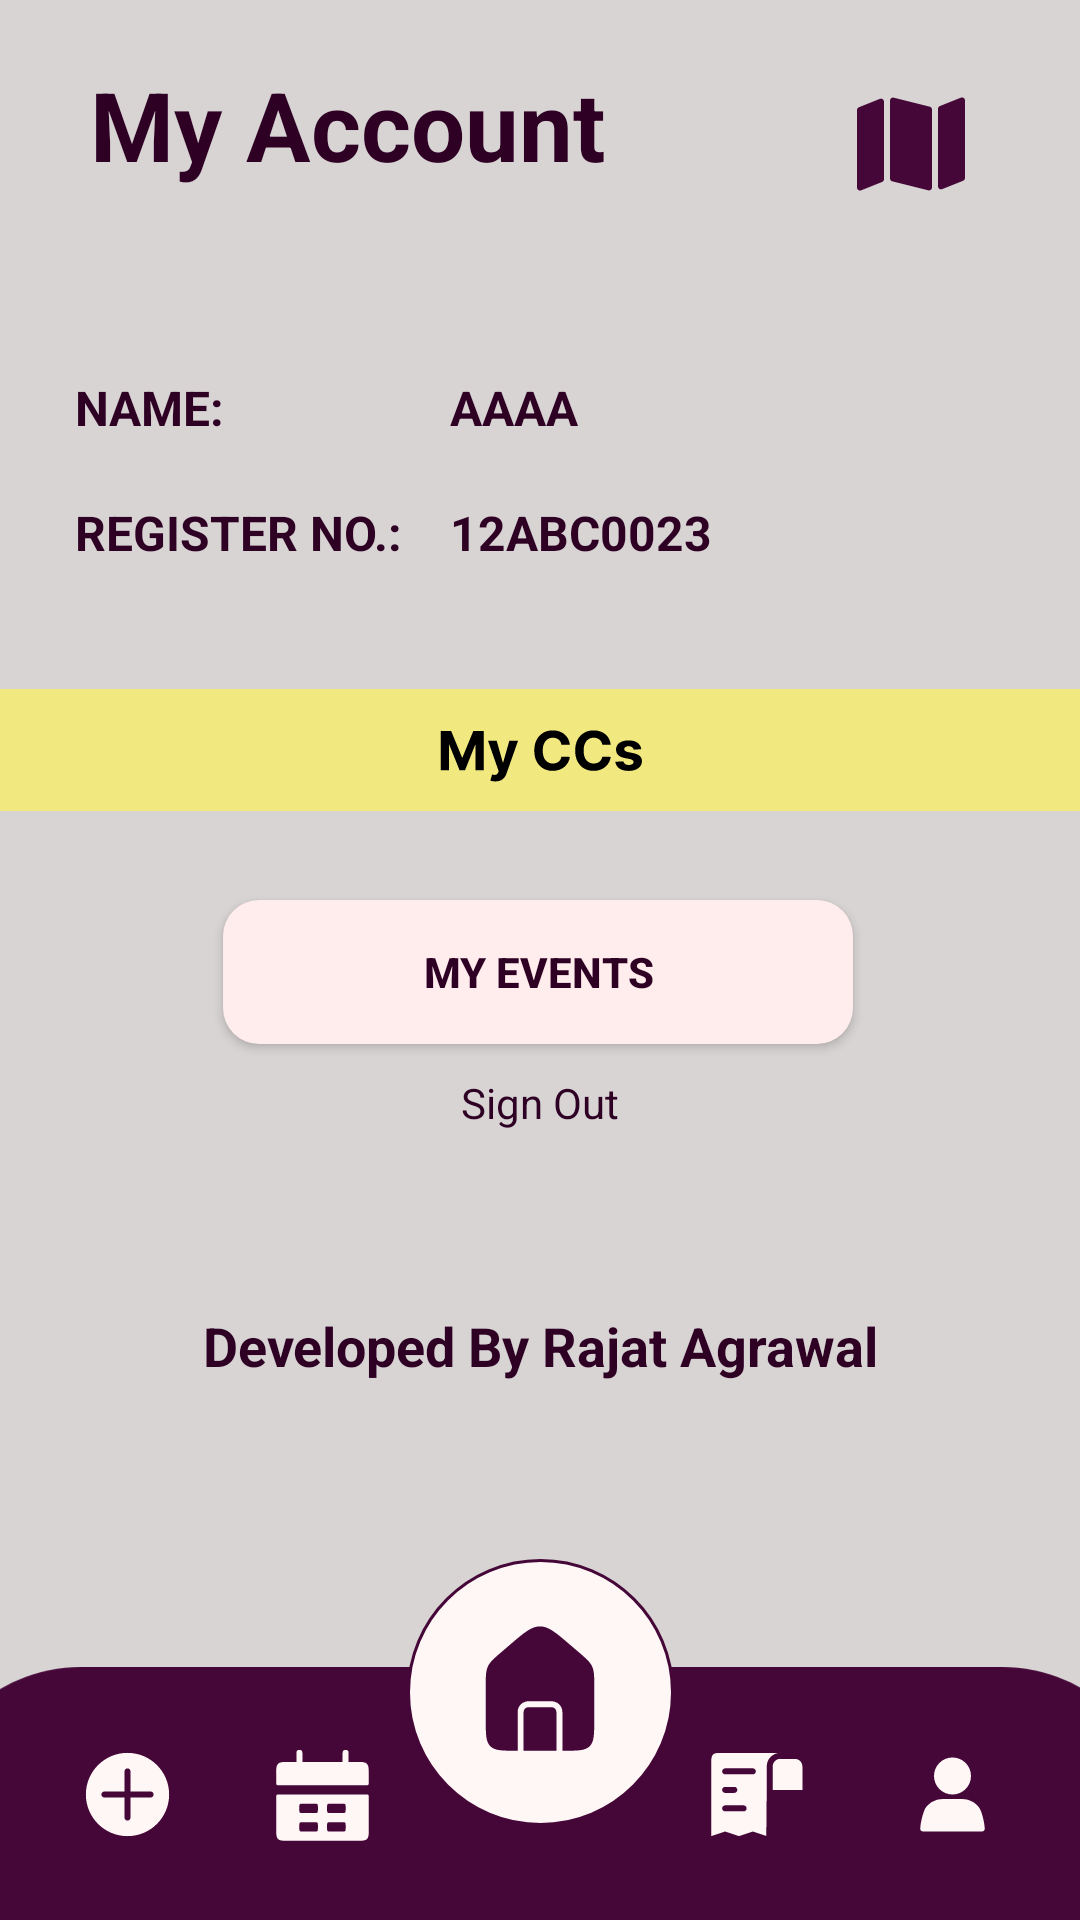

Point at icon controls on the screen. Image size 1080px x 1920px, points as [x,y].
acc: [952,1794]
add: [127,1794]
event: [322,1795]
map: [911,144]
